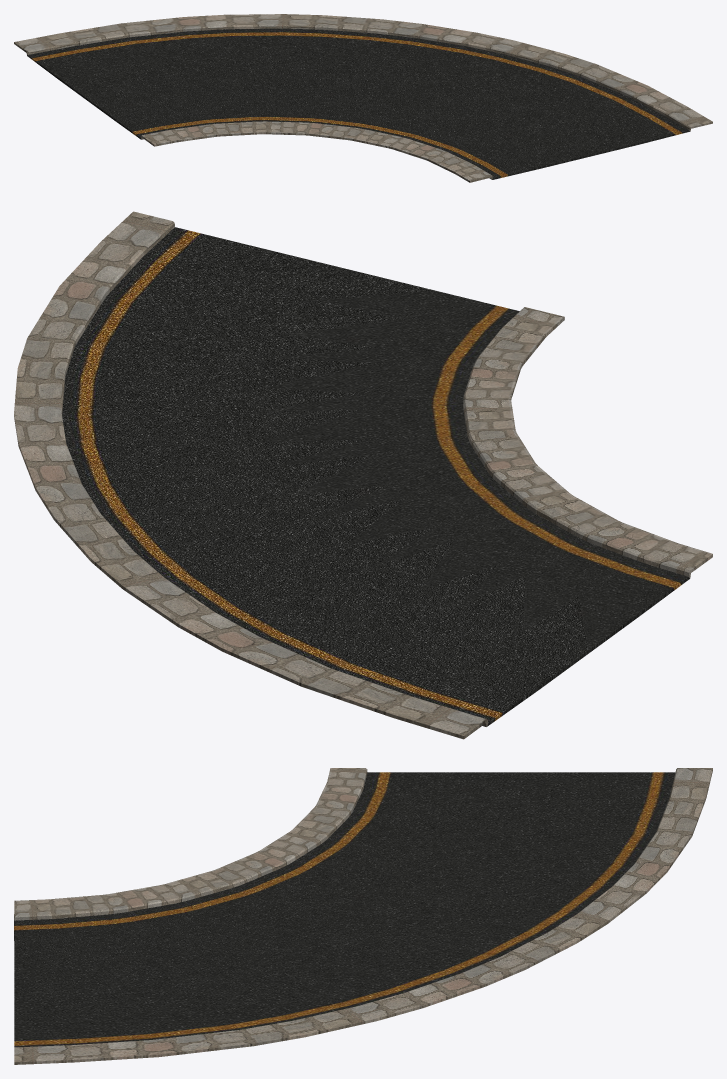
Rendered from modular-city-road-pack-game-ready-4in-2-009-9.glb.
3 views of the same model, one above another, from view 1: azimuth 30°, elevation 25°; view 2: azimuth 150°, elevation 25°; view 3: azimuth 270°, elevation 25° (orthographic). The views are drawn at different scales.
Visible parts, largest first — view 1: 4in 2.009_9; view 2: 4in 2.009_9; view 3: 4in 2.009_9.
Part boxes in pixels (x1=…): 4in 2.009_9: x1=14, y1=14, x2=712, y2=182; 4in 2.009_9: x1=14, y1=211, x2=712, y2=739; 4in 2.009_9: x1=14, y1=768, x2=712, y2=1064.
Size of the model in its own units: 4.93 by 0.0526 by 4.94.
2 materials, 2 textured.
